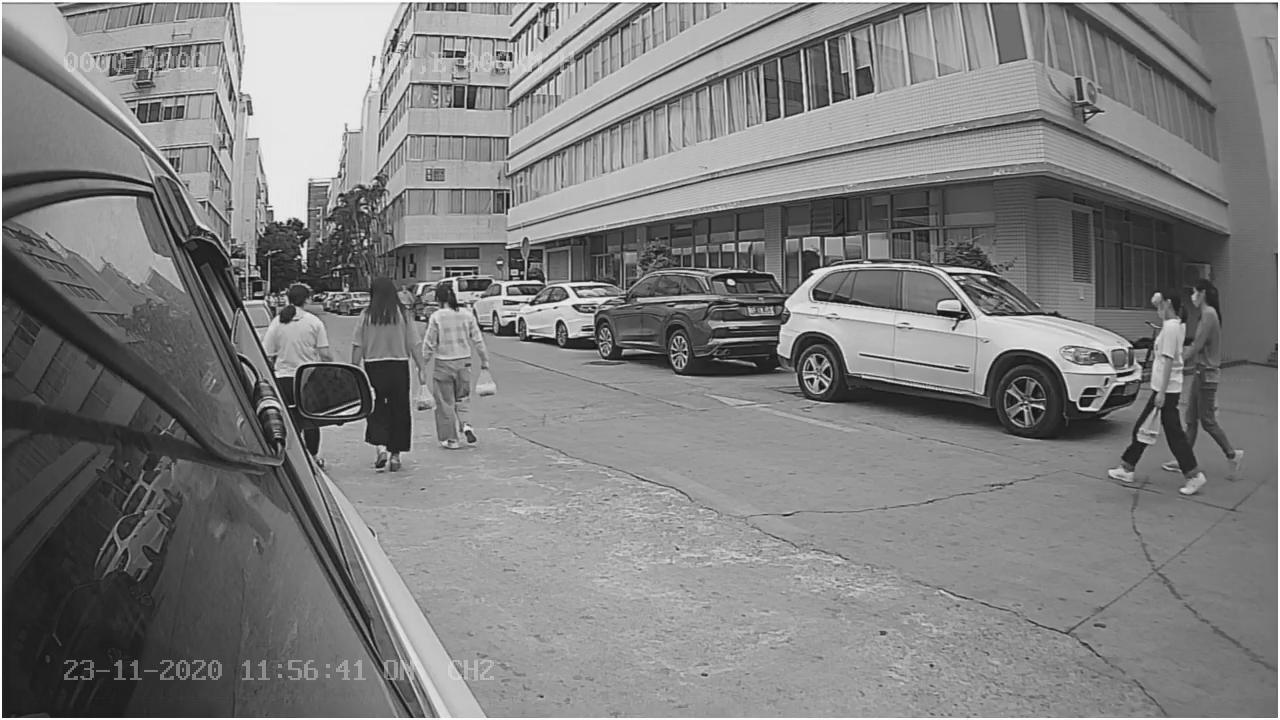person: (1106, 289, 1207, 507), (354, 273, 426, 473), (417, 278, 499, 452), (1185, 281, 1251, 486), (259, 281, 333, 359)
